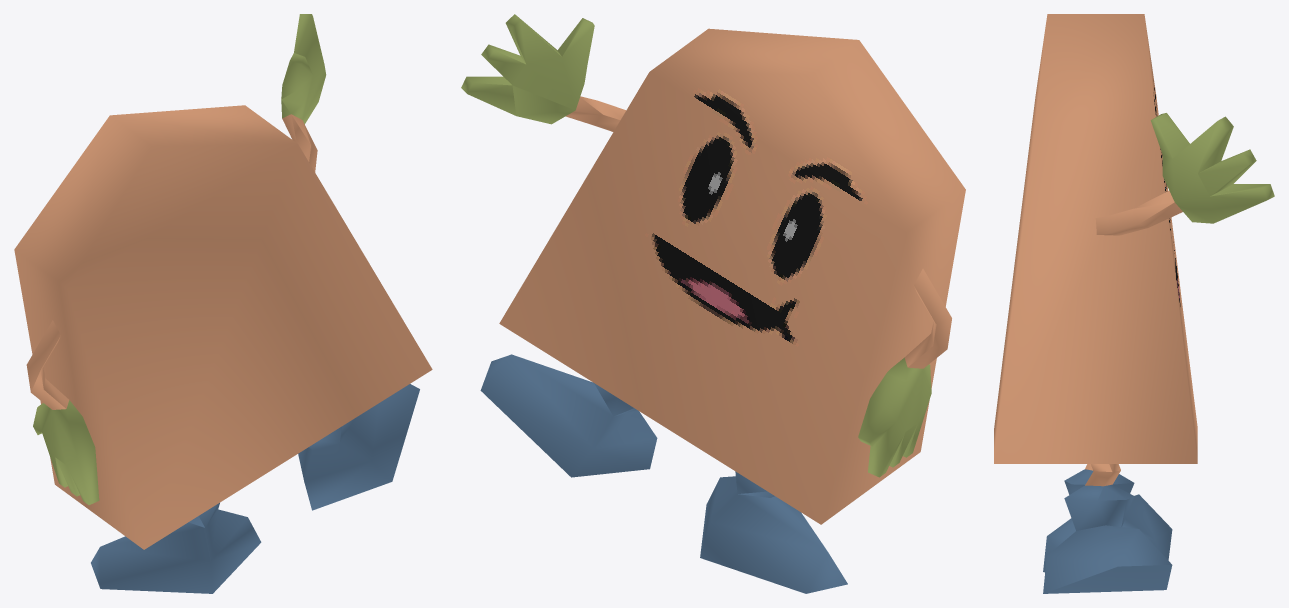
The model's file is ps2_save-icons_kousokutanigawashogi-gamerecorddata.glb.
3 views of the same model, side by side, from view 1: azimuth 30°, elevation 25°; view 2: azimuth 150°, elevation 25°; view 3: azimuth 270°, elevation 25° (orthographic). The views are drawn at different scales.
Visible parts, largest first — view 1: view.ico; view 2: view.ico; view 3: view.ico.
Part boxes in pixels (bbox=[...]): view.ico: bbox=[14, 14, 432, 593]; view.ico: bbox=[461, 14, 965, 593]; view.ico: bbox=[994, 14, 1274, 593].
Size of the model in its own units: 3.95 by 4.5 by 2.09.
Materials: 1 (1 with a texture image).
